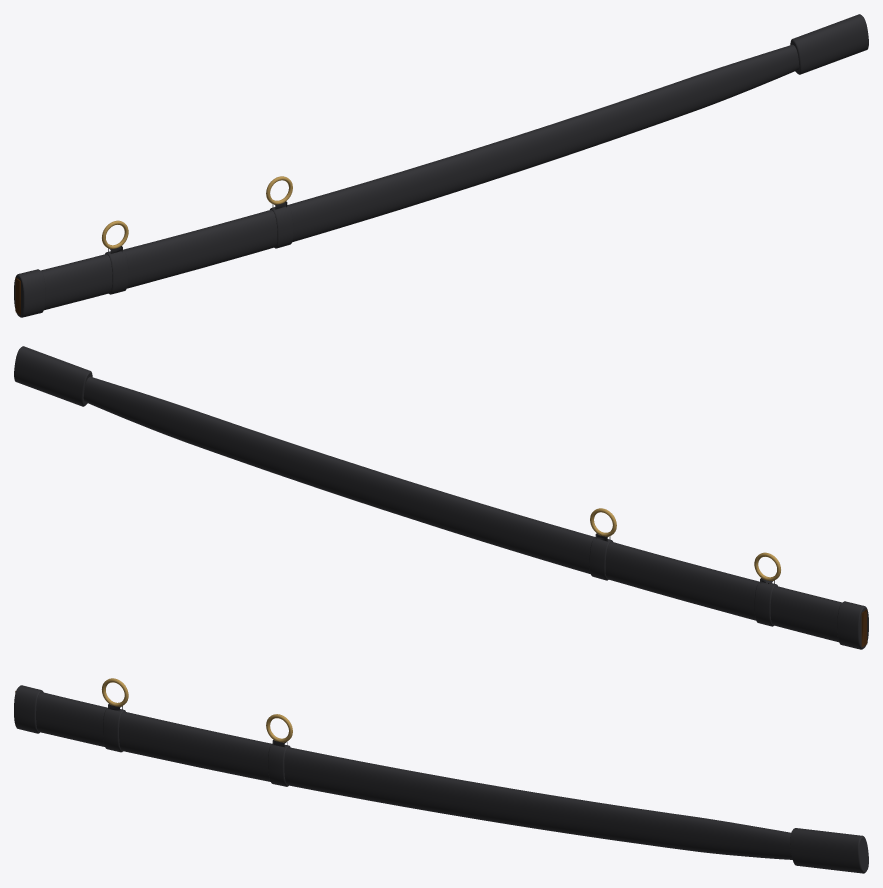
Rendered from sabre_scabbard.glb.
The picture shows the model from 3 angles, top to bottom: view 1: azimuth 30°, elevation 25°; view 2: azimuth 150°, elevation 25°; view 3: azimuth 330°, elevation 25°; orthographic projection.
Visible parts, largest first — view 1: sabre_scabbard_steel, sabre_scabbard_brass; view 2: sabre_scabbard_steel, sabre_scabbard_brass; view 3: sabre_scabbard_steel, sabre_scabbard_brass.
Part boxes in pixels (left/top/right/bottom): sabre_scabbard_steel: left=14, top=14, right=868, bottom=317; sabre_scabbard_brass: left=102, top=176, right=292, bottom=248; sabre_scabbard_steel: left=14, top=346, right=868, bottom=649; sabre_scabbard_brass: left=590, top=508, right=780, bottom=580; sabre_scabbard_steel: left=14, top=685, right=868, bottom=873; sabre_scabbard_brass: left=101, top=678, right=292, bottom=742.
Bounding box in the file's own units: 0.8547 × 0.0934 × 0.0194.
